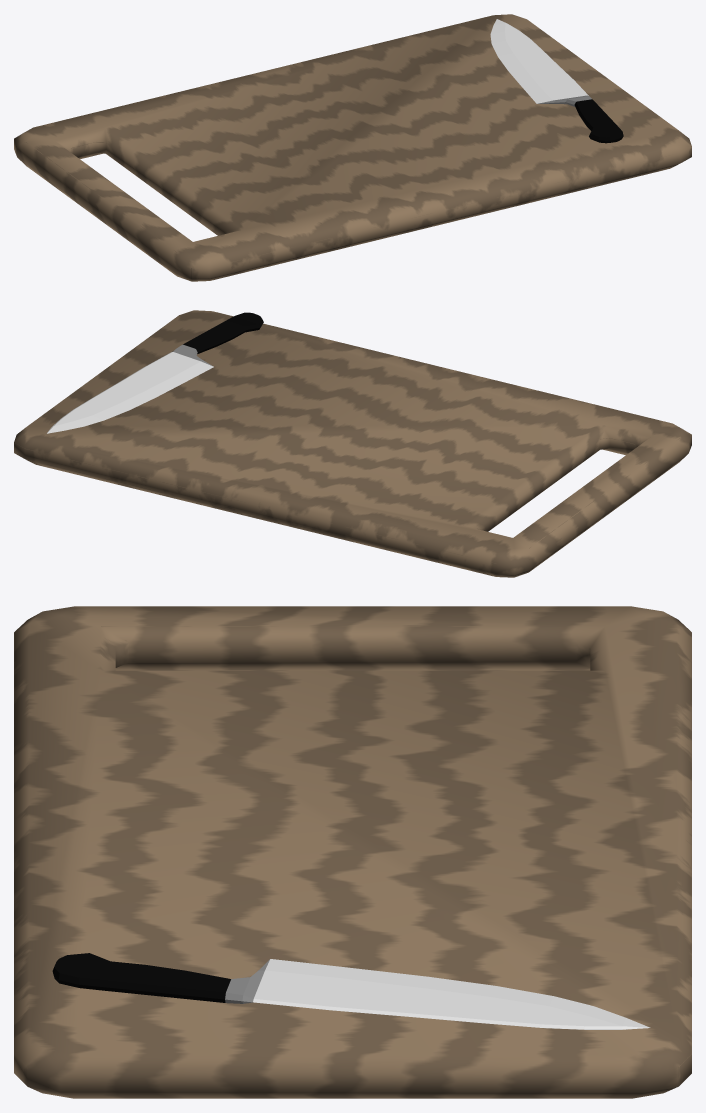
The model's file is CuttingBoard.fbx.
3 renders of one model, top to bottom at view 1: azimuth 30°, elevation 25°; view 2: azimuth 150°, elevation 25°; view 3: azimuth 270°, elevation 25°, orthographic. The views are drawn at different scales.
Parts seen in each view (by area): view 1: CuttingBoard, Knife; view 2: CuttingBoard, Knife; view 3: CuttingBoard, Knife.
Boxes of the visible parts, x1=… form: CuttingBoard: x1=14, y1=14, x2=691, y2=281; Knife: x1=490, y1=19, x2=623, y2=143; CuttingBoard: x1=14, y1=310, x2=691, y2=577; Knife: x1=47, y1=312, x2=263, y2=433; CuttingBoard: x1=14, y1=606, x2=691, y2=1098; Knife: x1=52, y1=953, x2=650, y2=1029.
Bounding box in the file's own units: 80 × 5.8 × 50.
4 materials, 1 textured.
